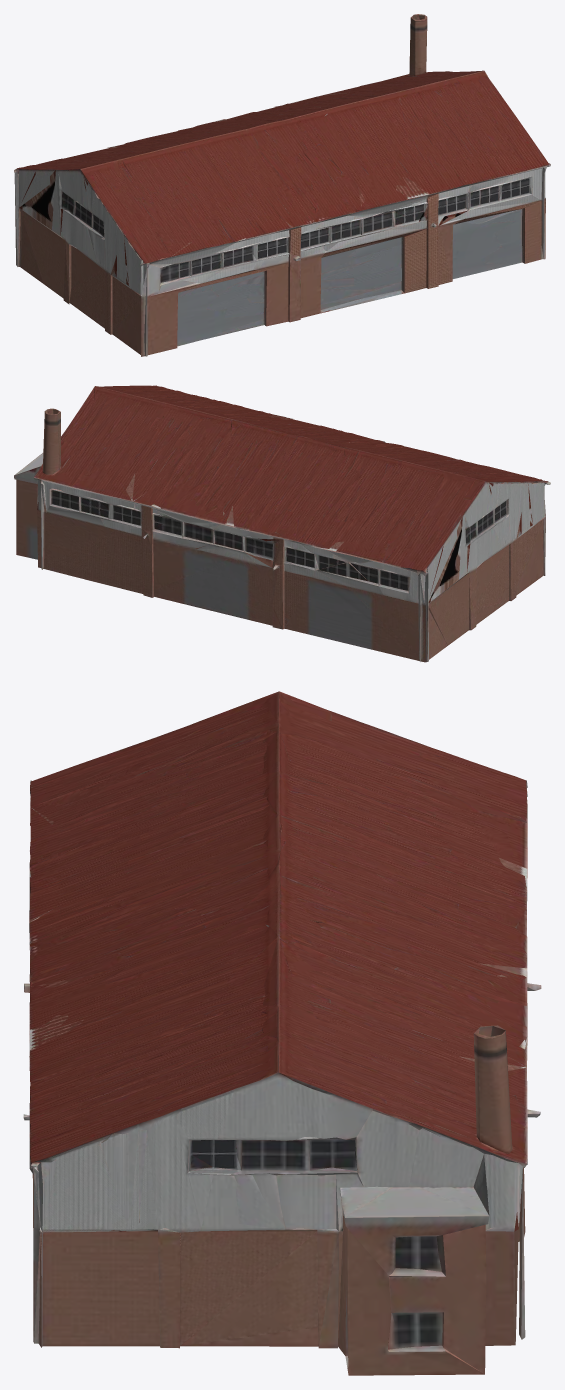
File: potato.glb
3 renders of one model, top to bottom at view 1: azimuth 30°, elevation 25°; view 2: azimuth 150°, elevation 25°; view 3: azimuth 270°, elevation 25°, orthographic. The views are drawn at different scales.
Visible parts, largest first — view 1: output_unwrapped; view 2: output_unwrapped; view 3: output_unwrapped.
Boxes of the visible parts, x1=… form: output_unwrapped: x1=14, y1=14, x2=550, y2=356; output_unwrapped: x1=14, y1=385, x2=550, y2=662; output_unwrapped: x1=23, y1=691, x2=541, y2=1375.
Bounding box in the file's own units: 1.9 × 0.6566 × 1.
1 material, 1 textured.
